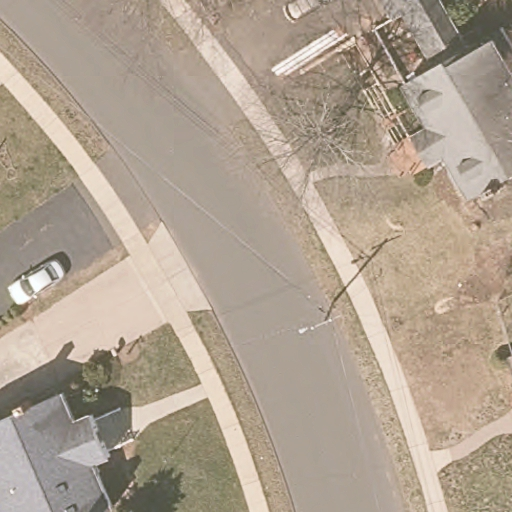DT: (298, 302, 345, 336)
